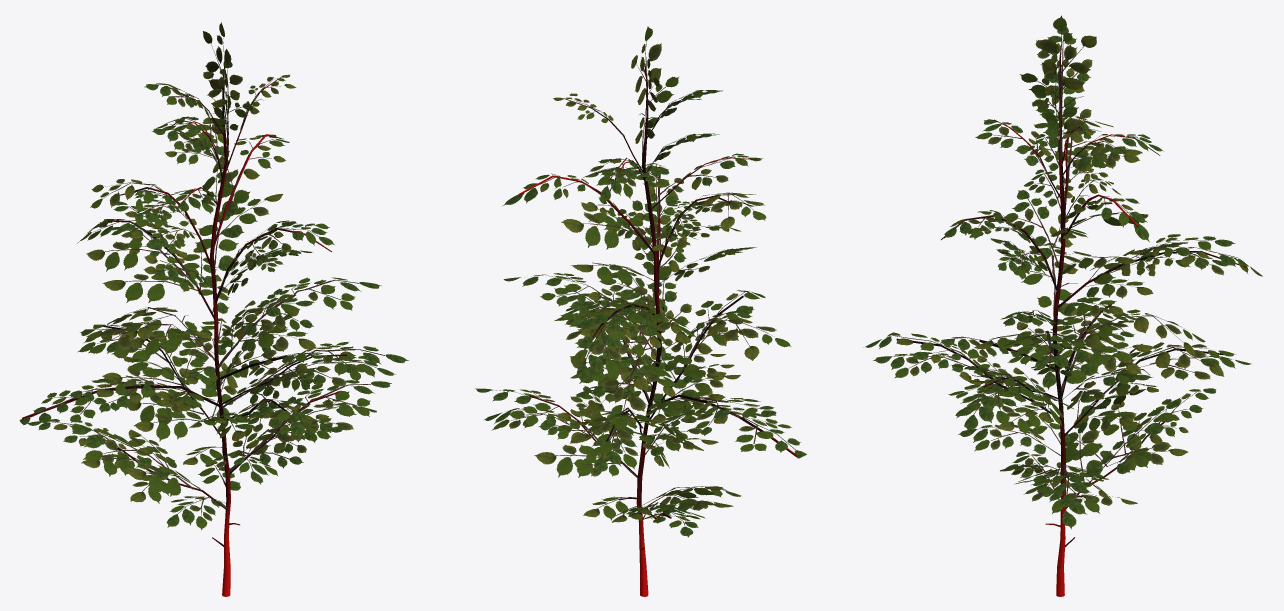
Rendered from PW_Tree_Small_02.fbx.
3 renders of one model, left to right at view 1: azimuth 30°, elevation 25°; view 2: azimuth 150°, elevation 25°; view 3: azimuth 270°, elevation 25°, orthographic.
Visible parts, largest first — view 1: PW_Tree_Aspen_Small_02_LOD0; view 2: PW_Tree_Aspen_Small_02_LOD0; view 3: PW_Tree_Aspen_Small_02_LOD0.
Boxes of the visible parts, box(x1,y1,x2,y2) form: PW_Tree_Aspen_Small_02_LOD0: box(19, 22, 408, 596); PW_Tree_Aspen_Small_02_LOD0: box(475, 26, 806, 596); PW_Tree_Aspen_Small_02_LOD0: box(863, 15, 1262, 596).
Size of what is drawn, in the model's own units: 153 by 234 by 150.
